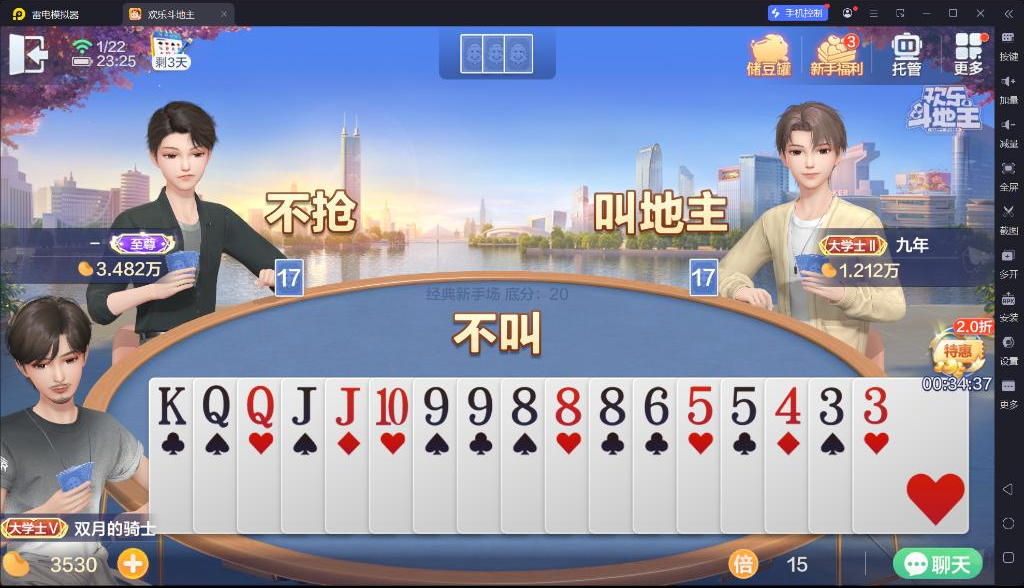J: (287, 381, 319, 427), (330, 384, 362, 428)
K: (156, 383, 188, 428)
Q: (199, 382, 233, 429), (243, 382, 276, 429)
eight: (551, 383, 585, 428), (508, 382, 541, 428), (595, 383, 628, 428)
five: (727, 381, 759, 427), (684, 383, 716, 426)
four: (771, 381, 804, 427)
nine: (420, 384, 451, 427), (463, 384, 493, 427)
six: (639, 383, 670, 427)
ten: (373, 384, 411, 428)
three: (816, 383, 846, 428), (860, 383, 890, 426)
